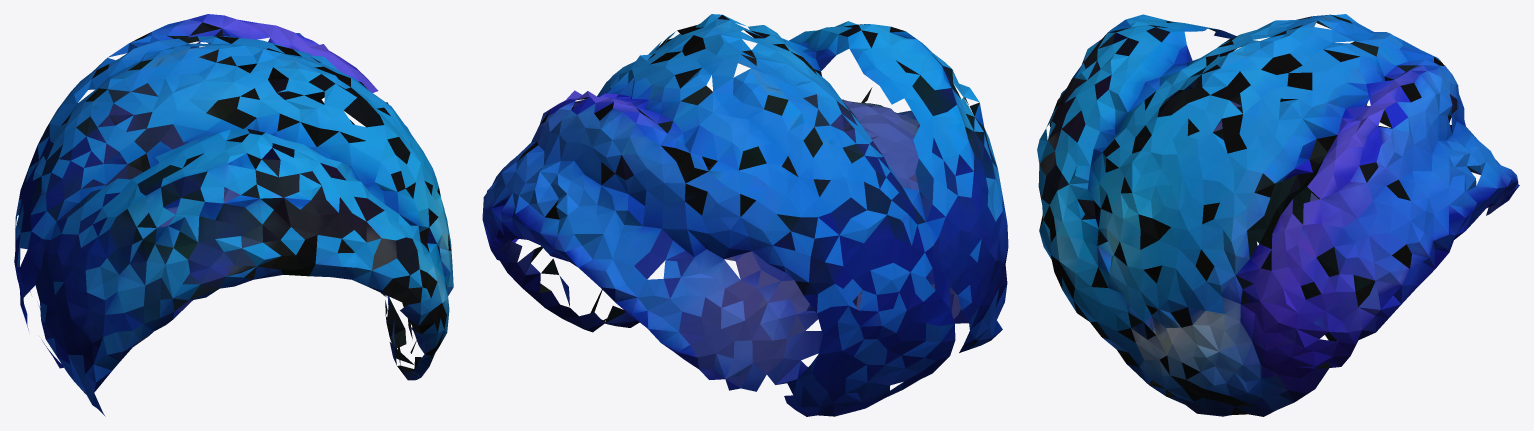
File: hairstyle_032.glb
3 renders of one model, left to right at view 1: azimuth 30°, elevation 25°; view 2: azimuth 150°, elevation 25°; view 3: azimuth 270°, elevation 25°, orthographic. The views are drawn at different scales.
Parts seen in each view (by area): view 1: geometry_0_032; view 2: geometry_0_032; view 3: geometry_0_032.
Part boxes in pixels (x1,y1,x2,y2): geometry_0_032: (14,14,453,416); geometry_0_032: (482,14,1008,416); geometry_0_032: (1037,14,1519,416).
Size of the model in its own units: 1.07 by 0.8233 by 1.12.
Materials: 1 (1 with a texture image).
